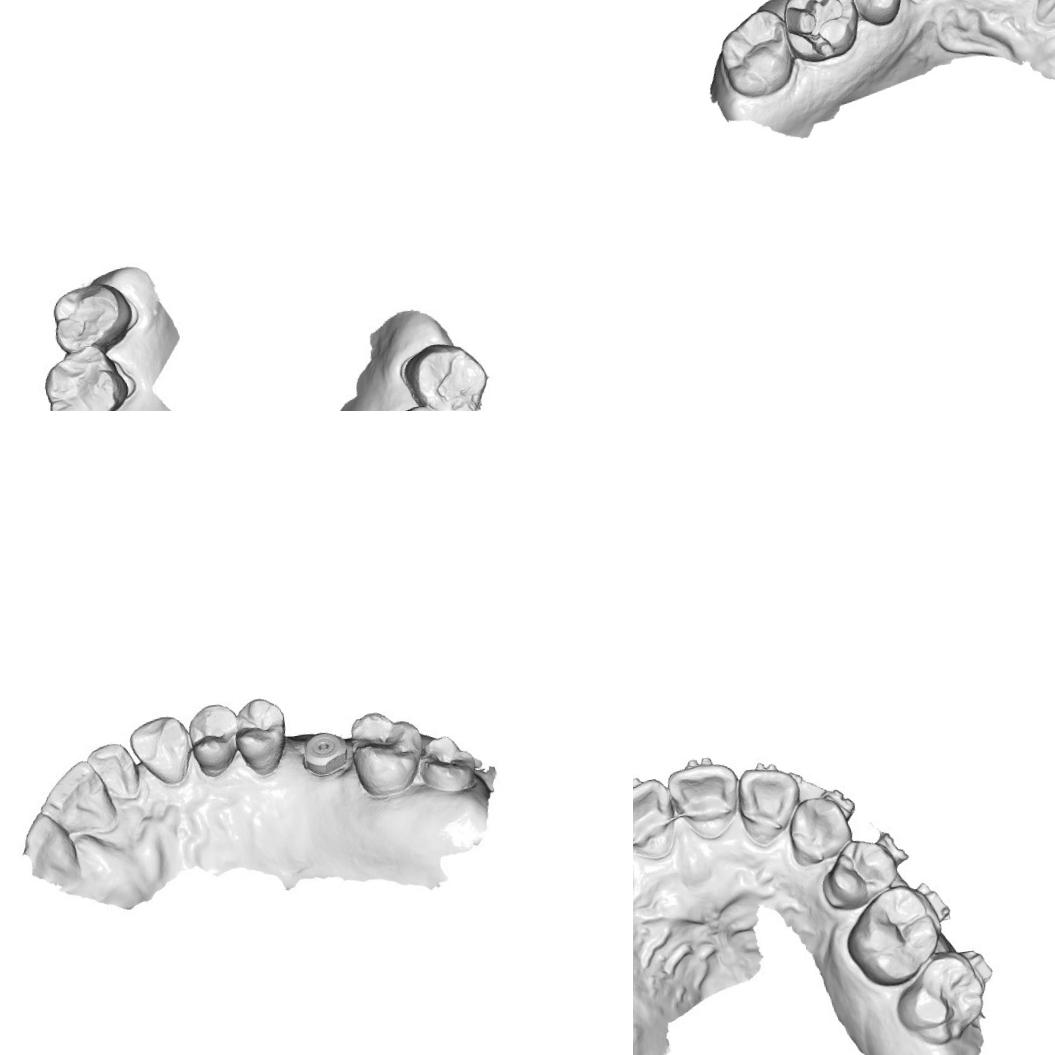canine: (782, 788, 856, 870), (130, 711, 196, 788)
implant: (299, 725, 352, 776)
incisor: (34, 758, 118, 840), (672, 756, 743, 842), (633, 776, 683, 863), (740, 768, 798, 838), (88, 740, 144, 807)
inlay: (780, 0, 851, 63)
molar: (836, 880, 950, 996), (888, 953, 989, 1053), (713, 6, 800, 102), (350, 709, 427, 800), (37, 344, 138, 411), (403, 340, 488, 411), (413, 726, 484, 800), (47, 284, 122, 348)
premolar: (818, 837, 904, 916), (233, 696, 292, 776), (186, 698, 244, 776), (840, 0, 906, 31)
